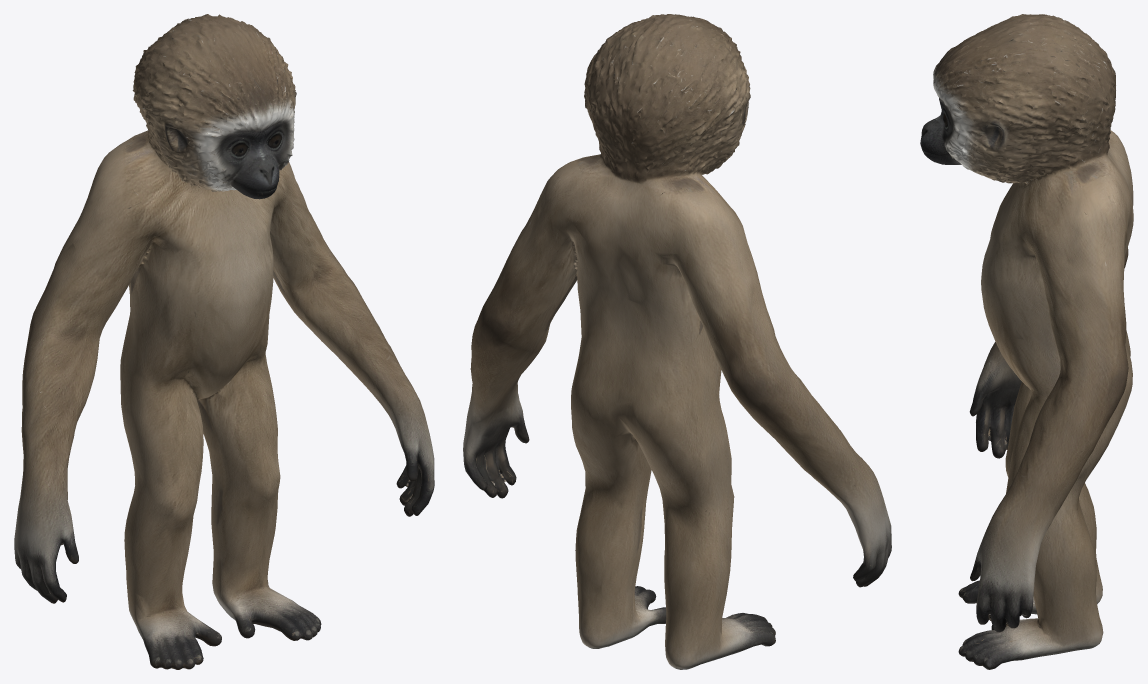
The model's file is Meshy_AI_Baby_Gibbon_Portrait_0523055203_texture.fbx.
3 views of the same model, side by side, from view 1: azimuth 30°, elevation 25°; view 2: azimuth 150°, elevation 25°; view 3: azimuth 270°, elevation 25° (orthographic).
Visible parts, largest first — view 1: Mesh1.0; view 2: Mesh1.0; view 3: Mesh1.0.
Part boxes in pixels (x1,y1,x2,y2): Mesh1.0: (14,14,434,669); Mesh1.0: (463,14,891,669); Mesh1.0: (920,14,1133,669).
Size of the model in its own units: 134 by 191 by 60.5.
1 material, 1 textured.
